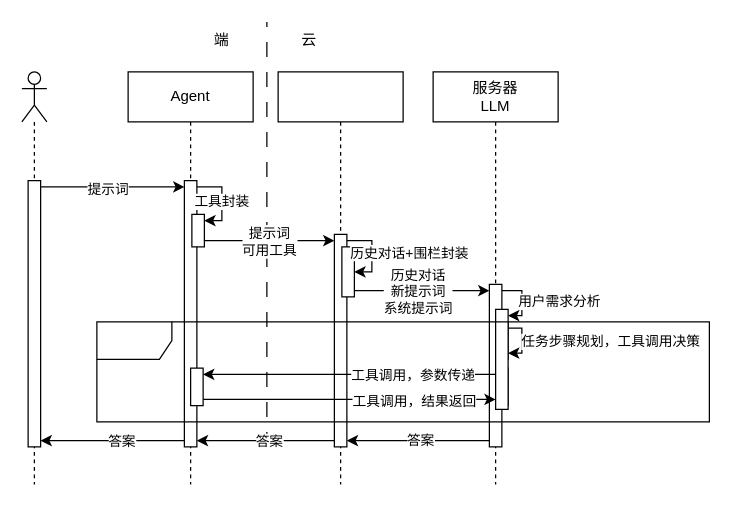
The diagram is 731 pixels wide and 506 high, and some of its shapes have lost their labels. Here are the shapes that lost their labels. From the top down, the centre of each, then its label:
the point at 340,277: 会话+围栏封装
the point at 402,371: loop
